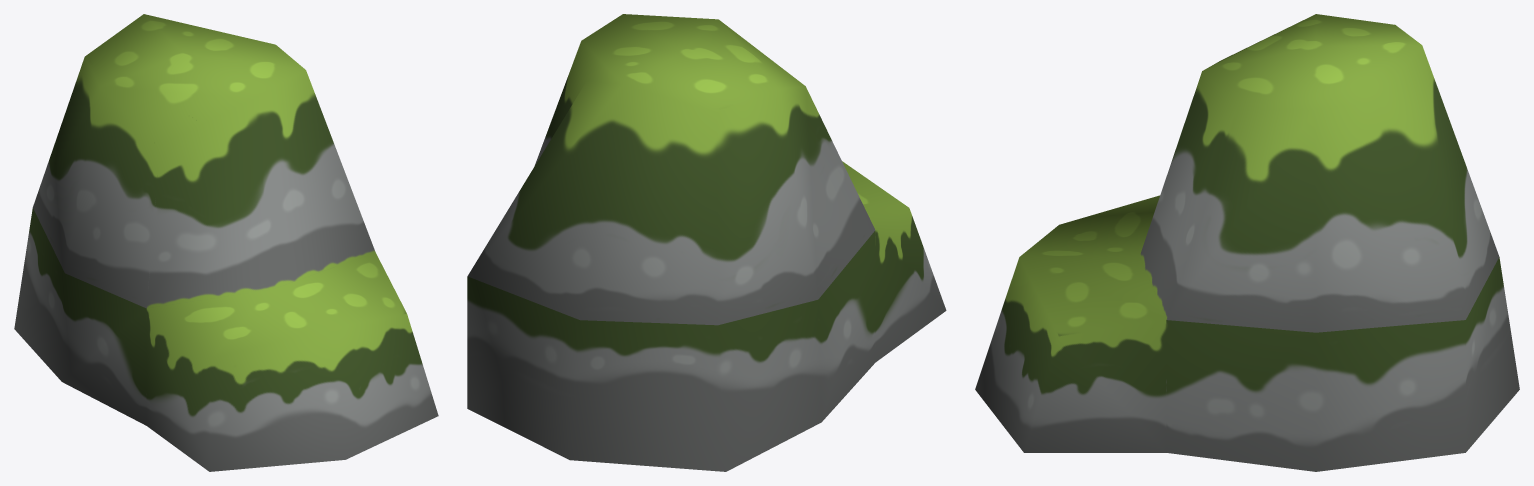
Rendered from stone_0.5.fbx.
The picture shows the model from 3 angles, left to right: view 1: azimuth 30°, elevation 25°; view 2: azimuth 150°, elevation 25°; view 3: azimuth 270°, elevation 25°; orthographic projection. The views are drawn at different scales.
Visible parts, largest first — view 1: Cube; view 2: Cube; view 3: Cube.
Part boxes in pixels (<box>): Cube: <box>14,14,438,471</box>; Cube: <box>467,14,946,471</box>; Cube: <box>975,14,1519,471</box>.
Size of the model in its own units: 123 by 126 by 182.
Materials: 1 (1 with a texture image).
